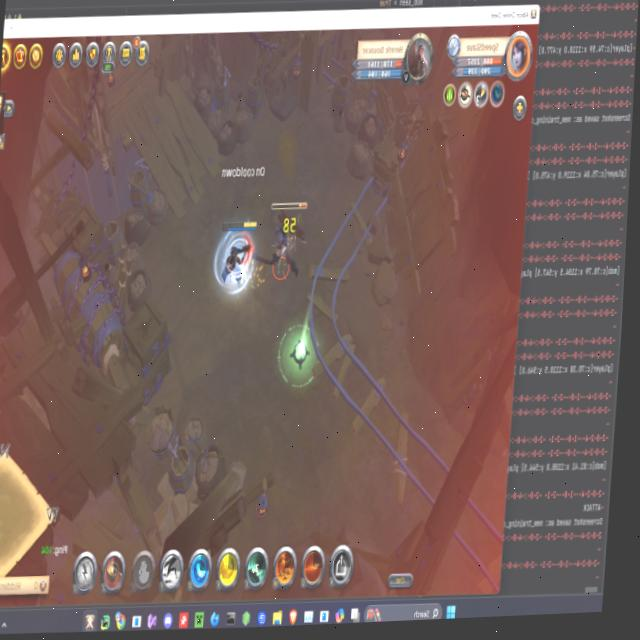ore: (259, 197, 311, 287)
red: (211, 216, 261, 303)
